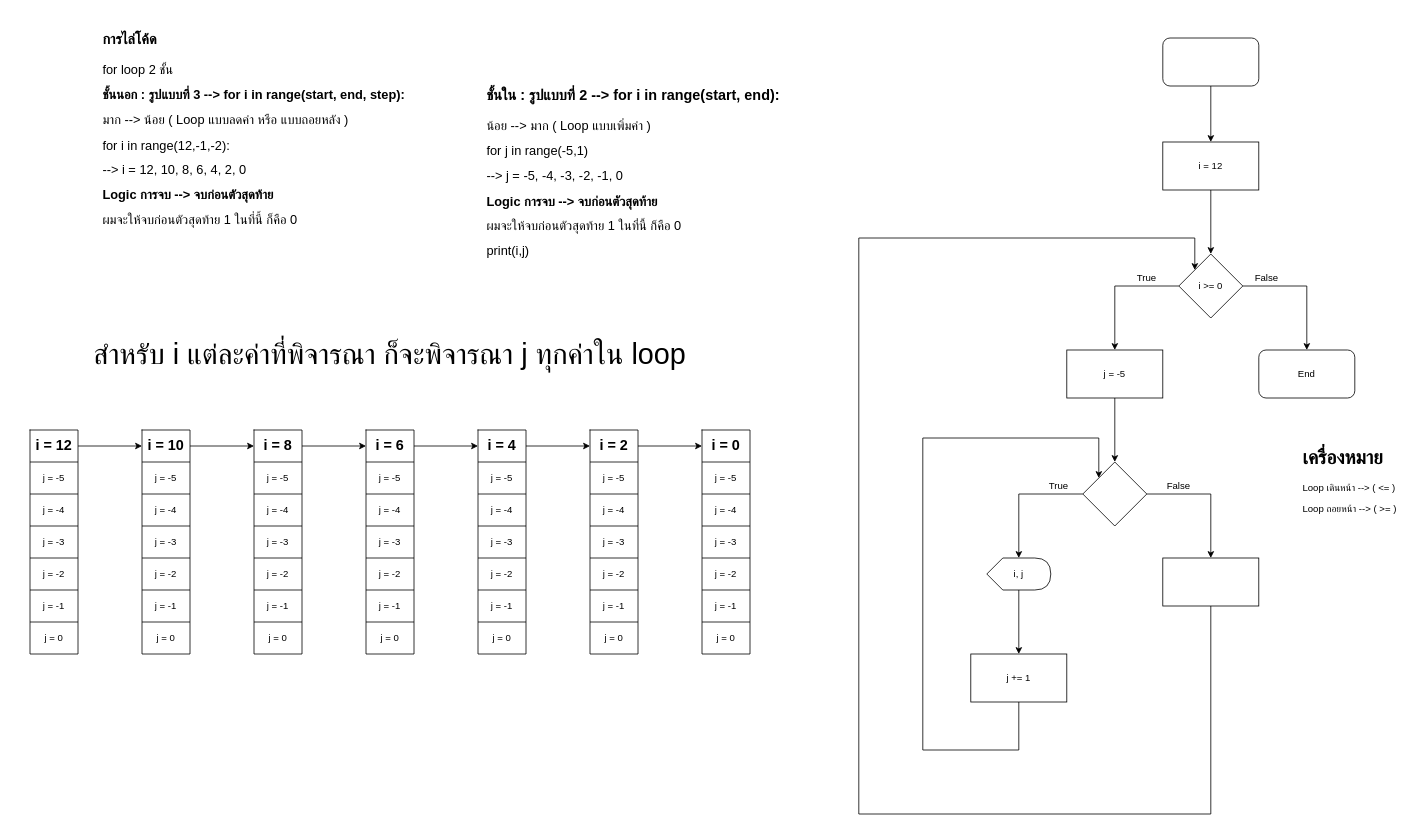
This 1424x834 diagram has some shape labels left out. The shapes that lost their labels are listed below. From the top down, each one's box as (x1, y1, x2, y2) in pixels, then its label:
(1162, 37, 1259, 86): start
(1082, 461, 1147, 526): j <= 0
(1162, 557, 1259, 606): i -= 2
